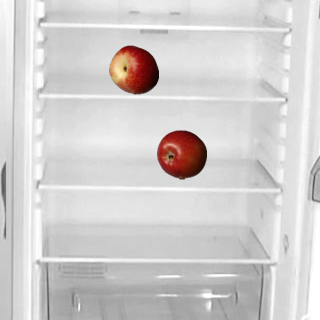Apple Braeburn: (156, 129, 206, 179)
Nectarine: (108, 44, 158, 94)
